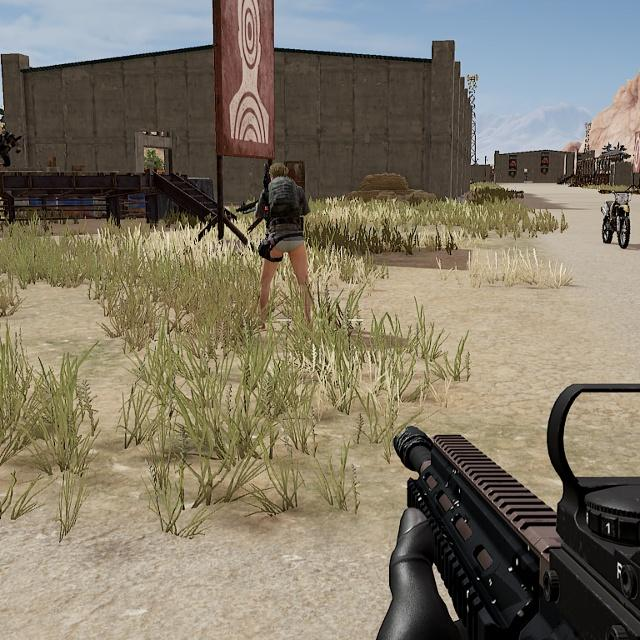head: (263, 155, 295, 191)
people: (242, 155, 325, 335)
